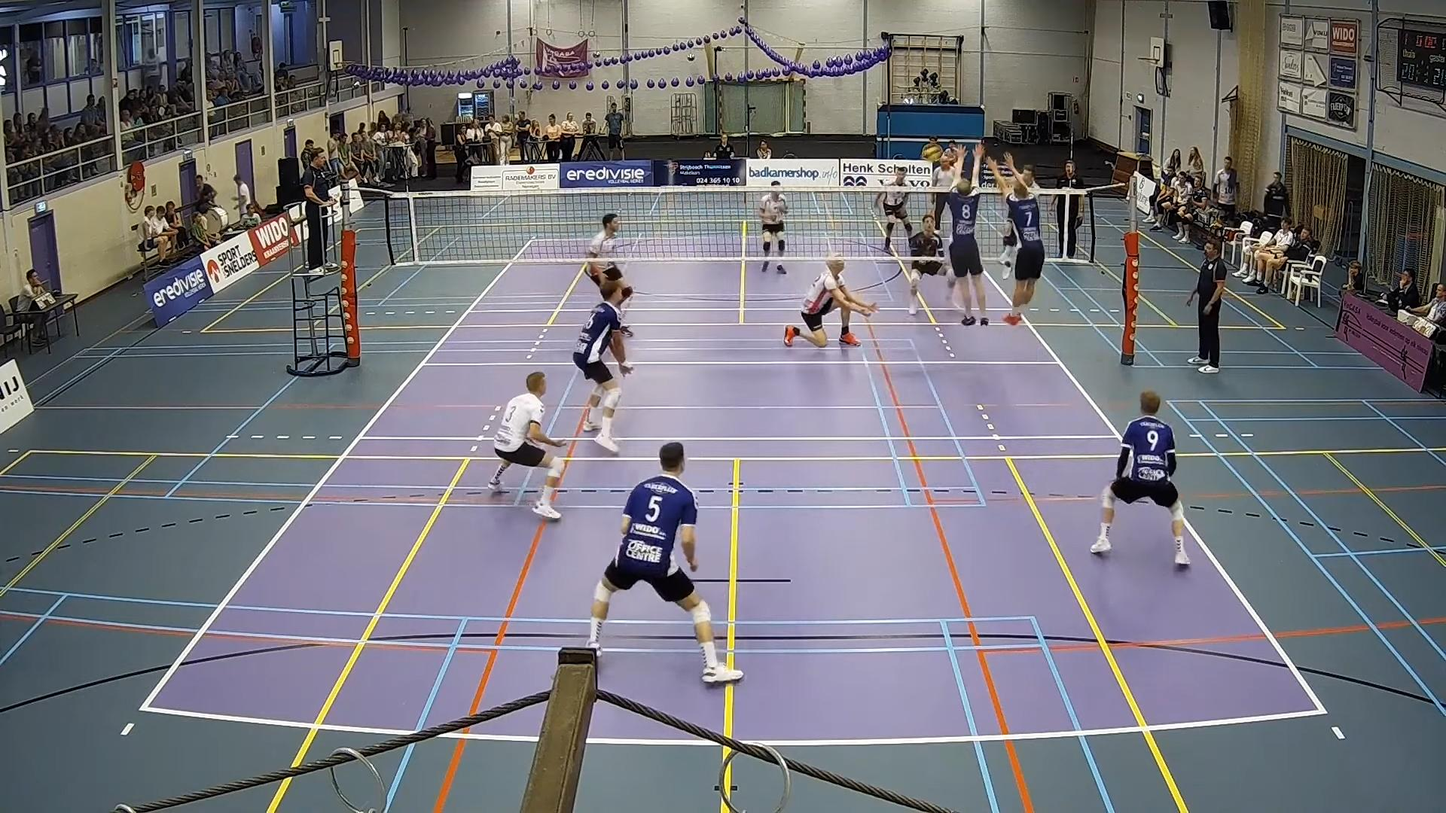attacco: (984, 146, 1049, 200)
muro: (988, 154, 1050, 330), (943, 153, 991, 325)
